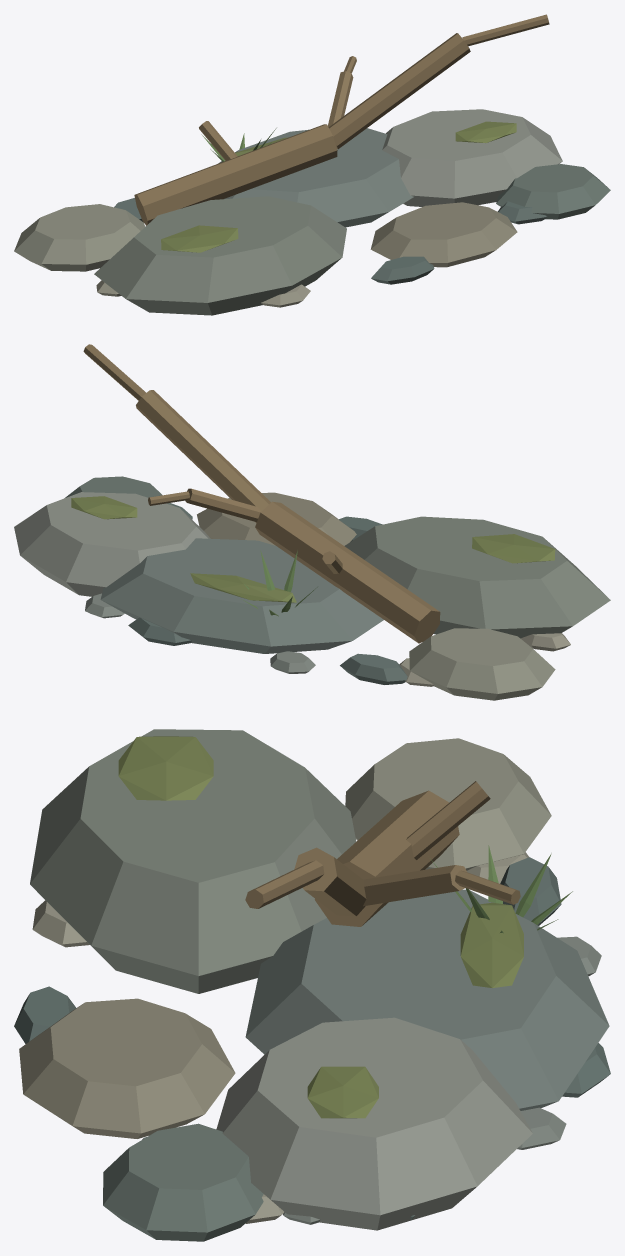
Rendered from waterside-shore-stones.glb.
3 renders of one model, top to bottom at view 1: azimuth 30°, elevation 25°; view 2: azimuth 150°, elevation 25°; view 3: azimuth 270°, elevation 25°, orthographic. The views are drawn at different scales.
Visible parts, largest first — view 1: SculptedModel; view 2: SculptedModel; view 3: SculptedModel.
Boxes of the visible parts, box(x1,y1,x2,y2) form: SculptedModel: box(14, 14, 610, 315); SculptedModel: box(14, 344, 610, 700); SculptedModel: box(14, 729, 610, 1241).
Bounding box in the file's own units: 2.41 × 0.7764 × 1.28.
